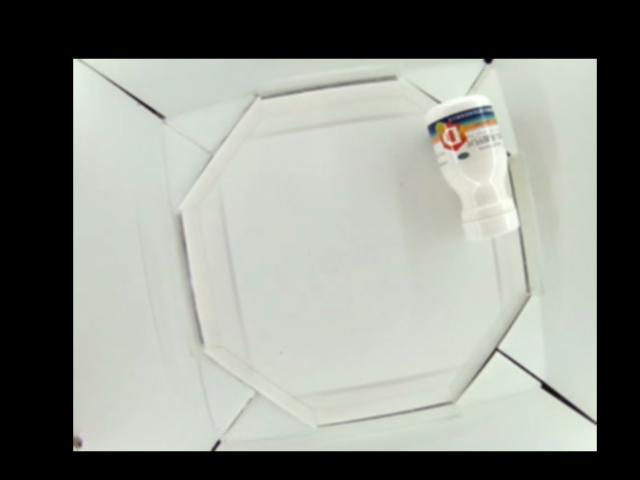Bottle: (425, 95, 520, 235)
